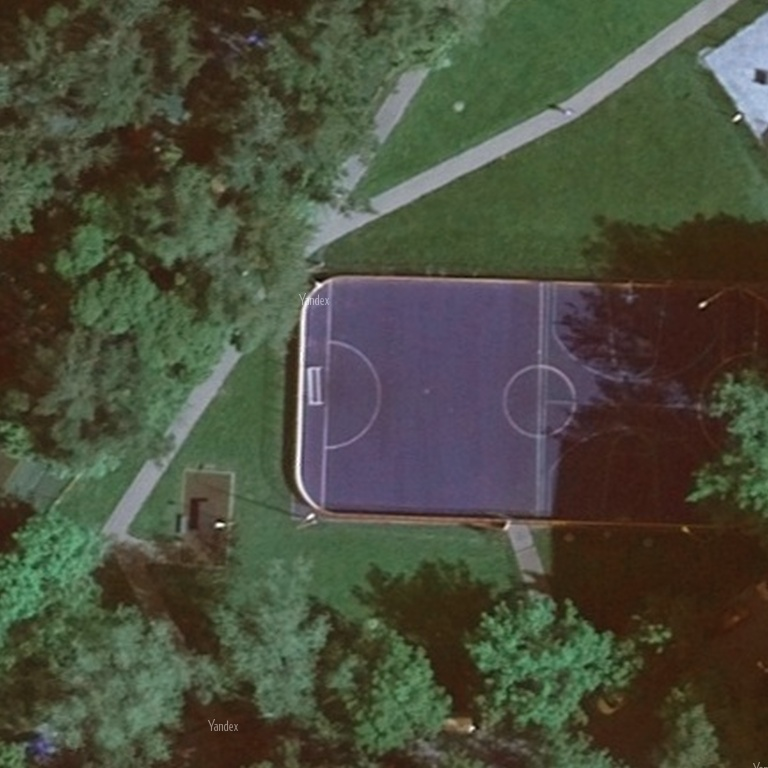basket_court: (529, 272, 763, 540)
